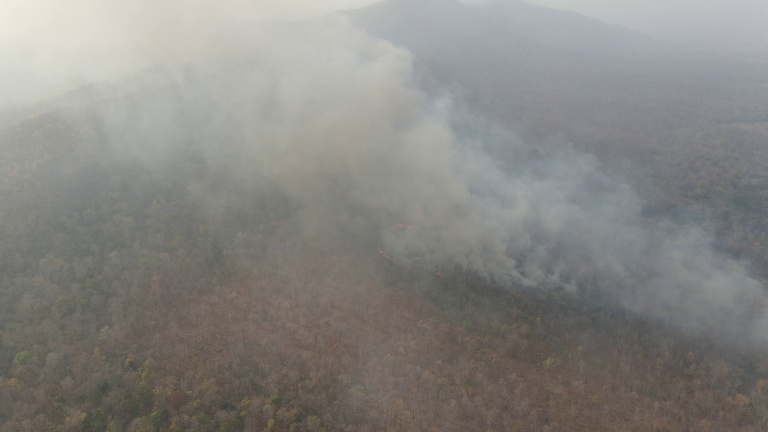fire: (370, 243, 399, 261), (392, 222, 417, 230), (431, 269, 450, 275)
smoke: (145, 2, 571, 287), (564, 162, 767, 340)
